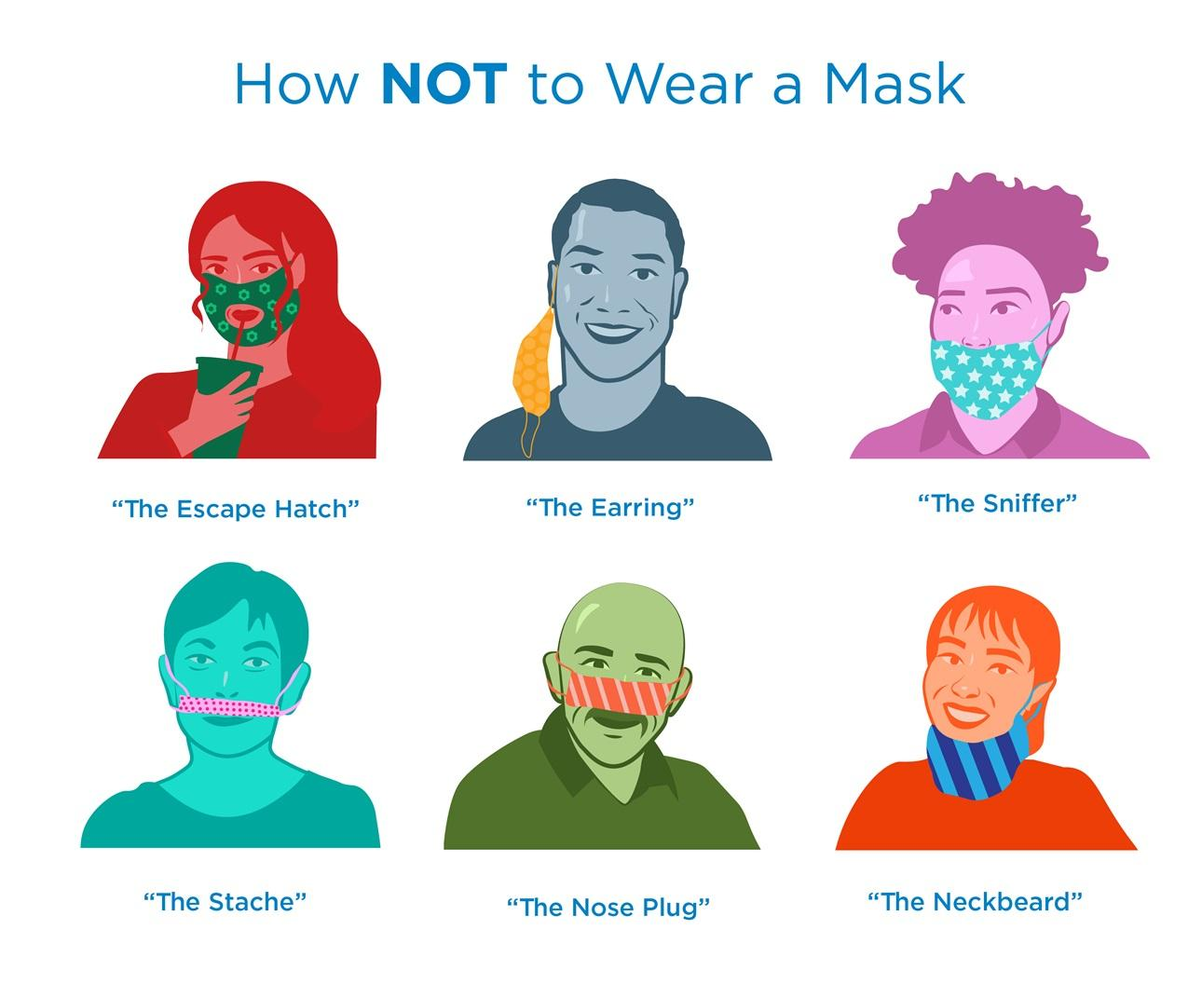Wore Mask Incorrectly: (476, 166, 750, 468), (851, 161, 1125, 461), (101, 175, 380, 459), (467, 583, 760, 853), (851, 583, 1095, 832), (106, 557, 350, 797)
